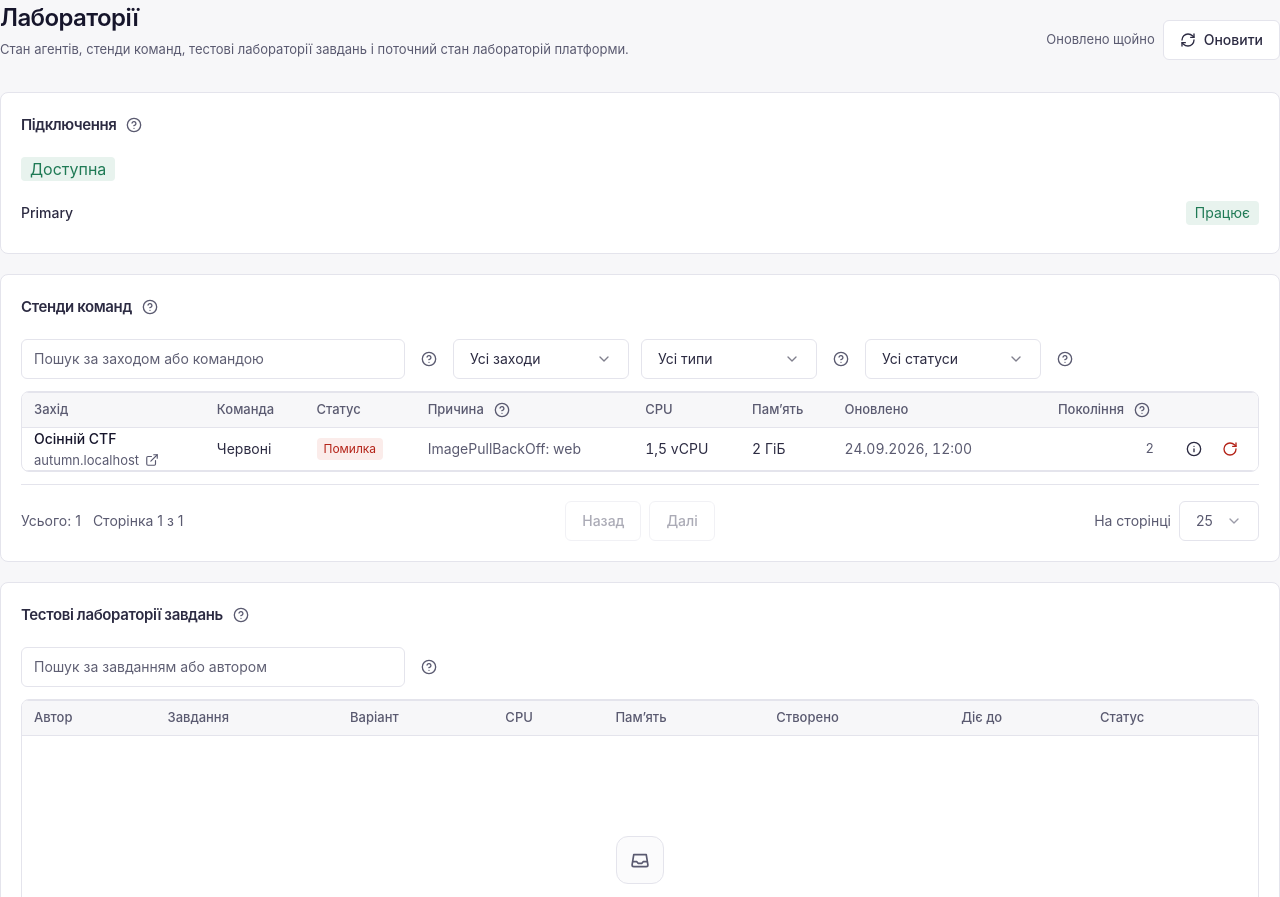
infrastructure page › stands › keeps the dialog open with a localized error when recreating fails
Expected: the text "Червоні" is shown, left=205, top=428, right=304, bottom=470
Click the button named "Перестворити стенд": (1230, 448) left=1214, top=432, right=1246, bottom=464
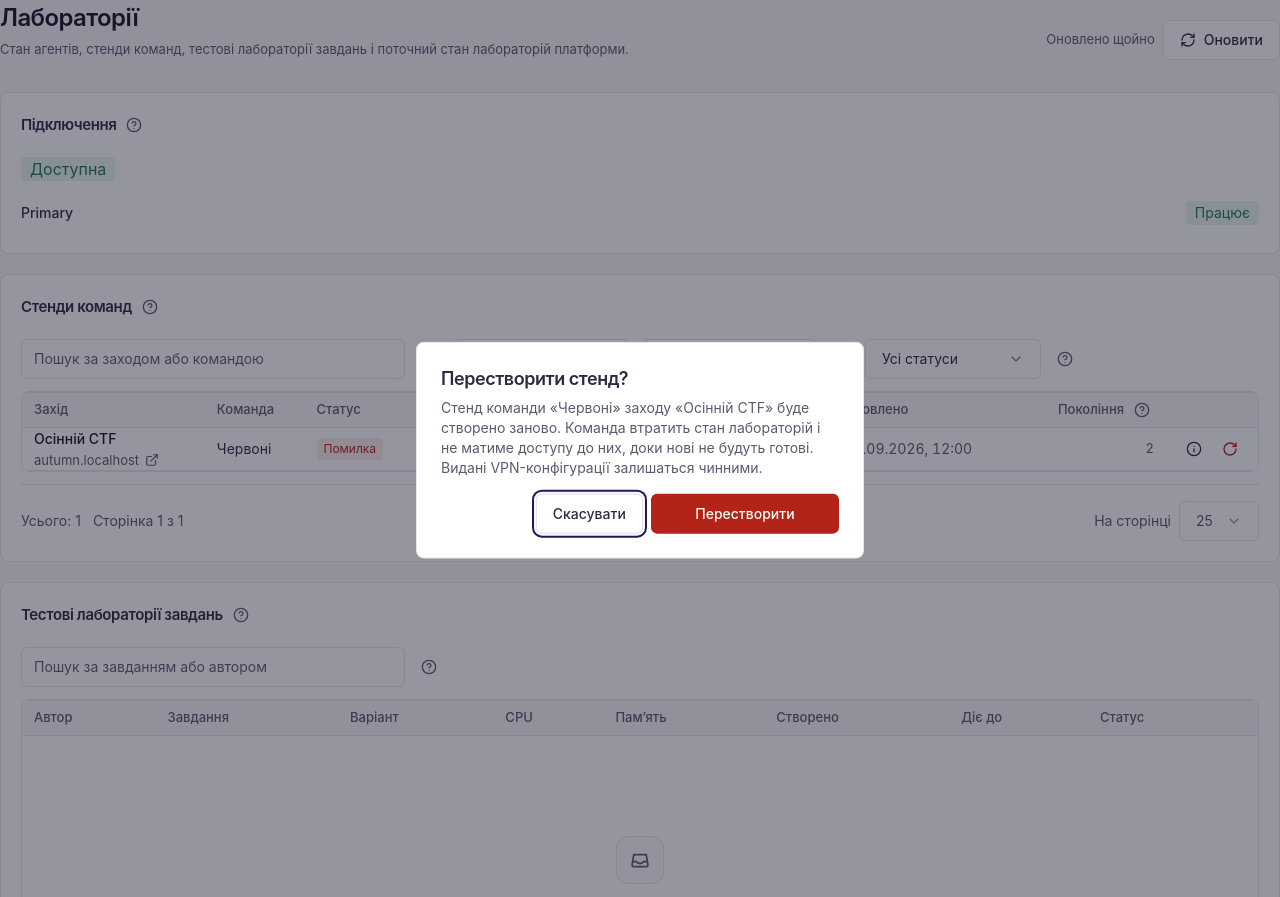
Click the button "Перестворити": (745, 513) left=651, top=493, right=839, bottom=533
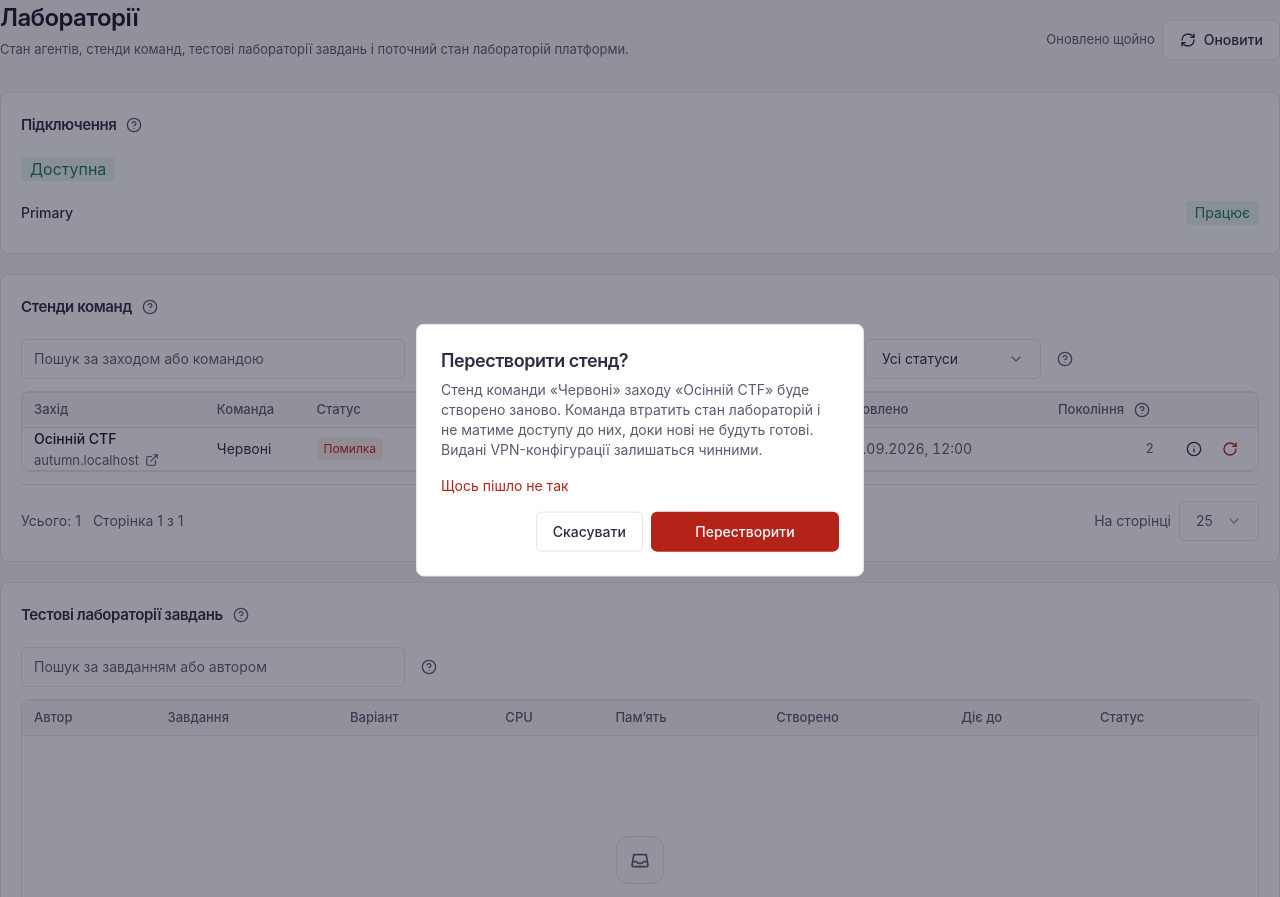
Now the dialog is shown, box left=416, top=324, right=864, bottom=576
Now the message "Щось пішло не так" is shown, box left=441, top=476, right=569, bottom=493
